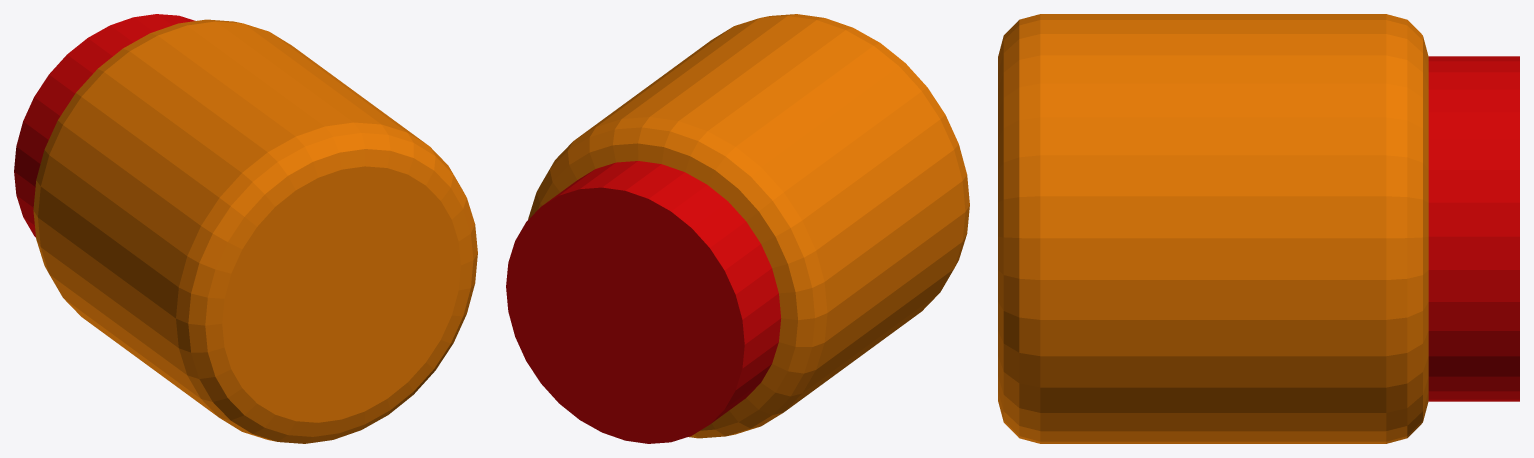
File: Proteine.fbx
3 renders of one model, left to right at view 1: azimuth 30°, elevation 25°; view 2: azimuth 150°, elevation 25°; view 3: azimuth 270°, elevation 25°, orthographic. The views are drawn at different scales.
Parts seen in each view (by area): view 1: Cylinder; view 2: Cylinder; view 3: Cylinder.
Boxes of the visible parts, box(x1,y1,x2,y2) form: Cylinder: box(14, 14, 477, 443); Cylinder: box(506, 14, 969, 443); Cylinder: box(998, 14, 1519, 443).
Bounding box in the file's own units: 23.58 × 23.58 × 28.58.
